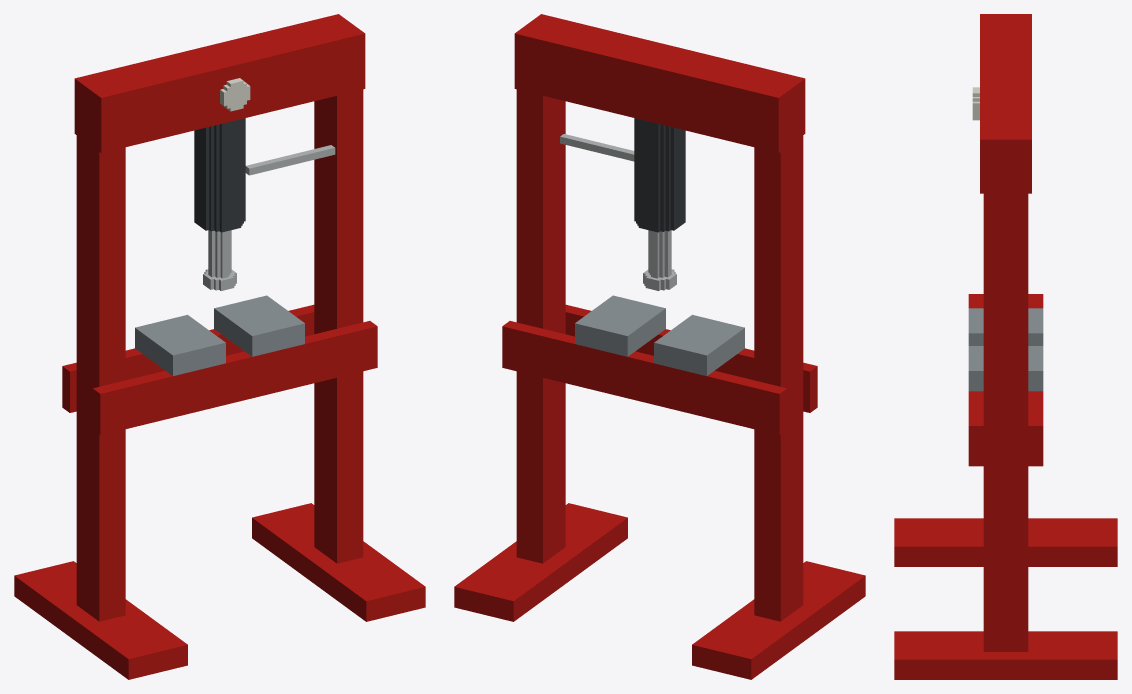
File: hydraulic_press.glb
3 views of the same model, side by side, from view 1: azimuth 30°, elevation 25°; view 2: azimuth 150°, elevation 25°; view 3: azimuth 270°, elevation 25° (orthographic). The views are drawn at different scales.
Parts seen in each view (by area): view 1: hydraulic_press:compound; view 2: hydraulic_press:compound; view 3: hydraulic_press:compound.
Part boxes in pixels (box(x1,y1,x2,y2)): hydraulic_press:compound: box(14, 14, 425, 679); hydraulic_press:compound: box(454, 14, 865, 679); hydraulic_press:compound: box(894, 14, 1117, 679).
Bounding box in the file's own units: 0.9 × 1.58 × 0.6.
